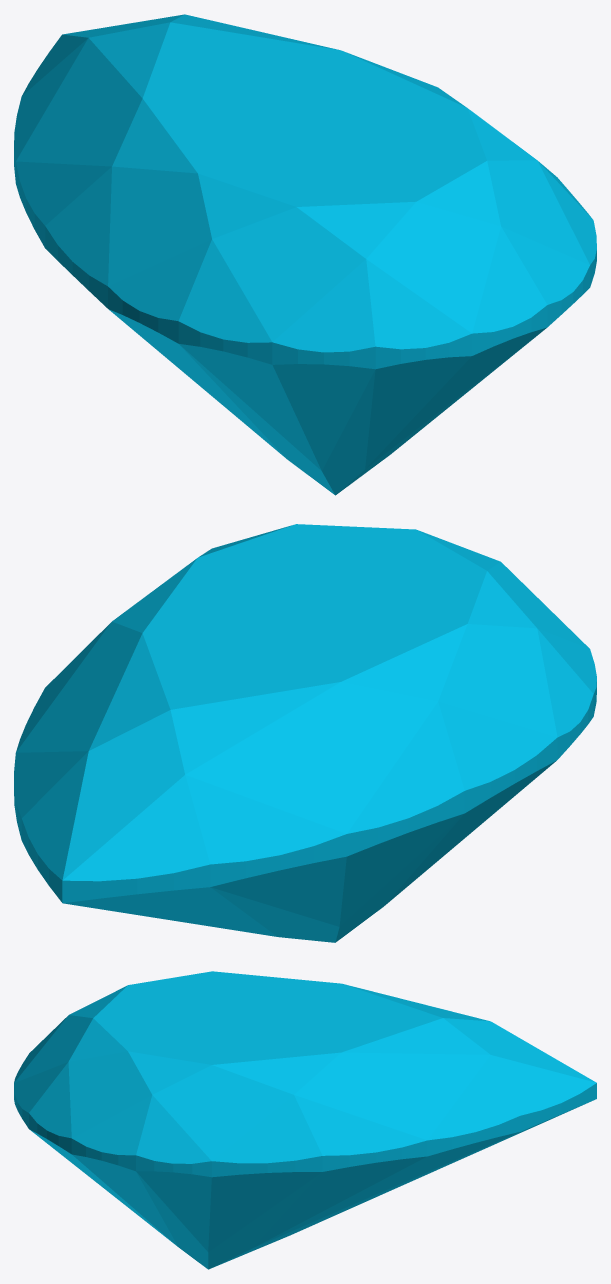
File: Head_Hidden Halo_Pear_0.75ct_Diamond.glb
The picture shows the model from 3 angles, top to bottom: view 1: azimuth 30°, elevation 25°; view 2: azimuth 150°, elevation 25°; view 3: azimuth 270°, elevation 25°; orthographic projection. The views are drawn at different scales.
Size of the model in its own units: 0.00498 by 0.00374 by 0.00786.
